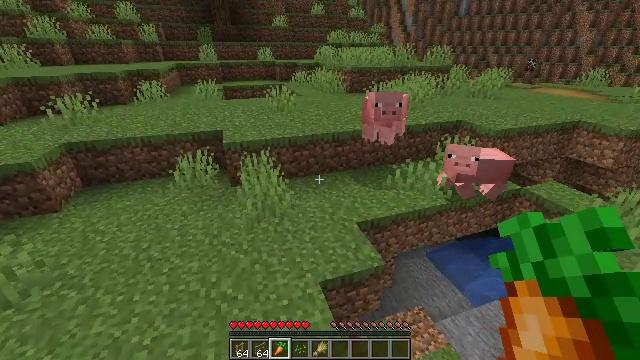pig: (442, 144, 513, 201), (363, 92, 408, 146)
